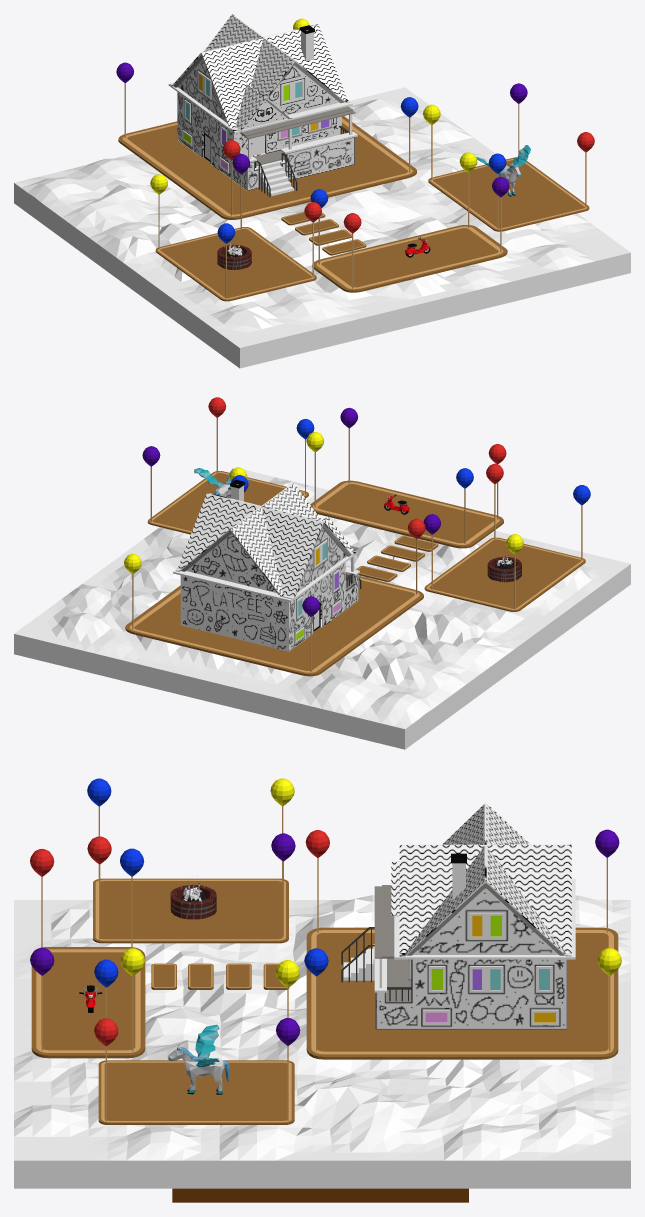
3 renders of one model, top to bottom at view 1: azimuth 30°, elevation 25°; view 2: azimuth 150°, elevation 25°; view 3: azimuth 270°, elevation 25°, orthographic. The views are drawn at different scales.
Visible parts, largest first — view 1: Cube.013, Cube.879, OBJRANDOM_CAMPFIRE, ANIMAL_PEGASO; view 2: Cube.013, Cube.879, OBJRANDOM_CAMPFIRE; view 3: Cube.013, Cube.879, UNDERGROUND_ART_PIECE_VAN_GOGH, ANIMAL_PEGASO, OBJRANDOM_CAMPFIRE.
Boxes of the visible parts, bbox=[...] form: Cube.013: bbox=[14, 18, 630, 368]; Cube.879: bbox=[168, 14, 357, 197]; OBJRANDOM_CAMPFIRE: bbox=[217, 243, 251, 269]; ANIMAL_PEGASO: bbox=[476, 145, 530, 196]; Cube.013: bbox=[14, 397, 630, 749]; Cube.879: bbox=[173, 479, 361, 651]; OBJRANDOM_CAMPFIRE: bbox=[487, 555, 521, 582]; Cube.013: bbox=[14, 778, 630, 1188]; Cube.879: bbox=[341, 803, 575, 1029]; UNDERGROUND_ART_PIECE_VAN_GOGH: bbox=[172, 1188, 468, 1202]; ANIMAL_PEGASO: bbox=[168, 1024, 229, 1094]; OBJRANDOM_CAMPFIRE: bbox=[170, 881, 216, 919].
Bounding box in the file's own units: 4000 × 1813 × 4000.
39 materials, 9 textured.
